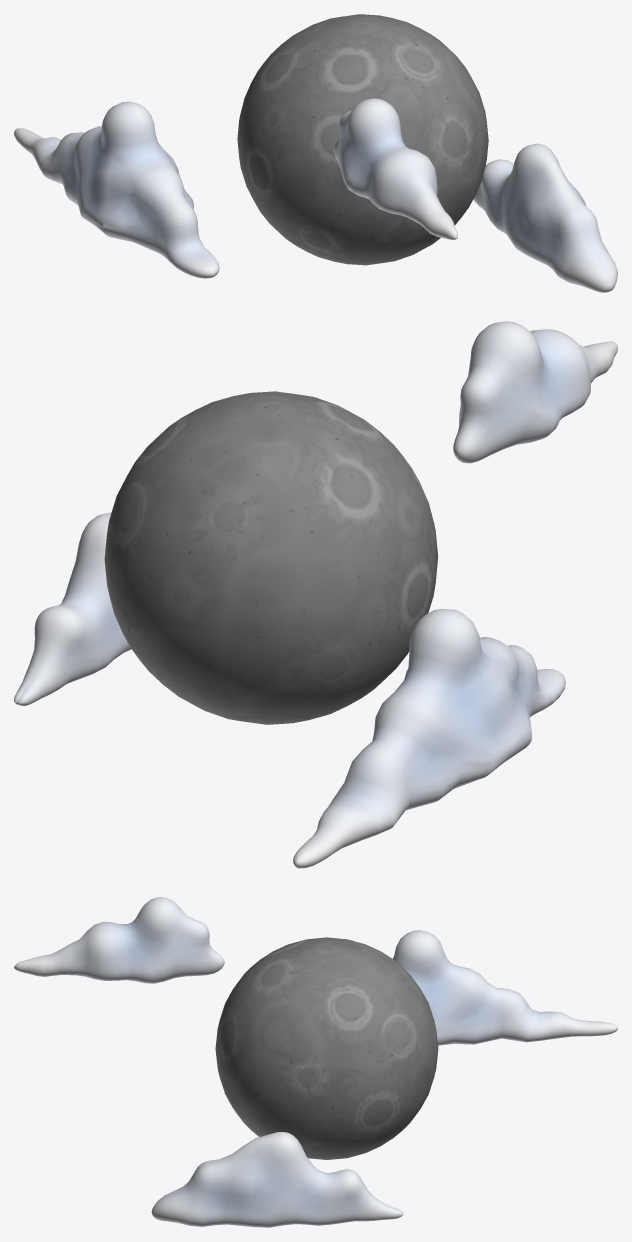
Rendered from moon_and_clouds.glb.
3 renders of one model, top to bottom at view 1: azimuth 30°, elevation 25°; view 2: azimuth 150°, elevation 25°; view 3: azimuth 270°, elevation 25°, orthographic. The views are drawn at different scales.
Parts seen in each view (by area): view 1: Object_2, Object_3; view 2: Object_2, Object_3; view 3: Object_2, Object_3.
Part boxes in pixels (x1,y1,x2,y2): Object_2: (237, 14, 488, 265); Object_3: (14, 98, 617, 292); Object_2: (104, 391, 438, 724); Object_3: (14, 321, 617, 868); Object_2: (215, 937, 438, 1159); Object_3: (14, 897, 617, 1227).
Size of the model in its own units: 383 by 226 by 556.
Materials: 2 (2 with a texture image).
